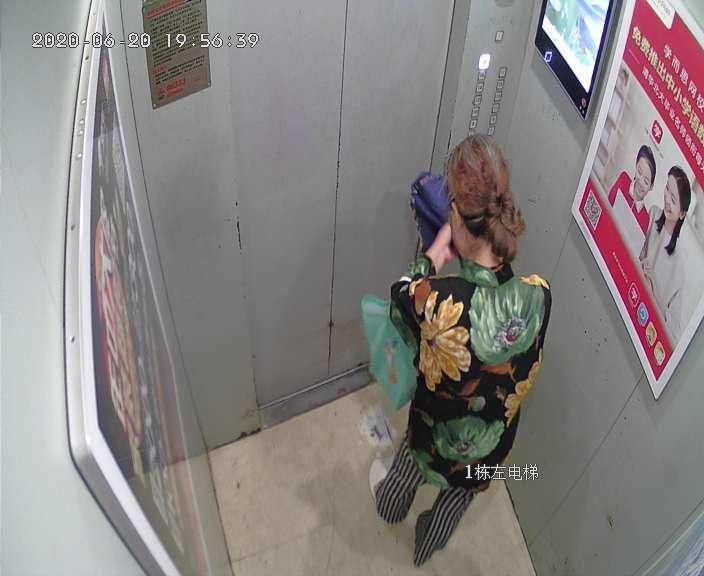person: (380, 141, 552, 556)
